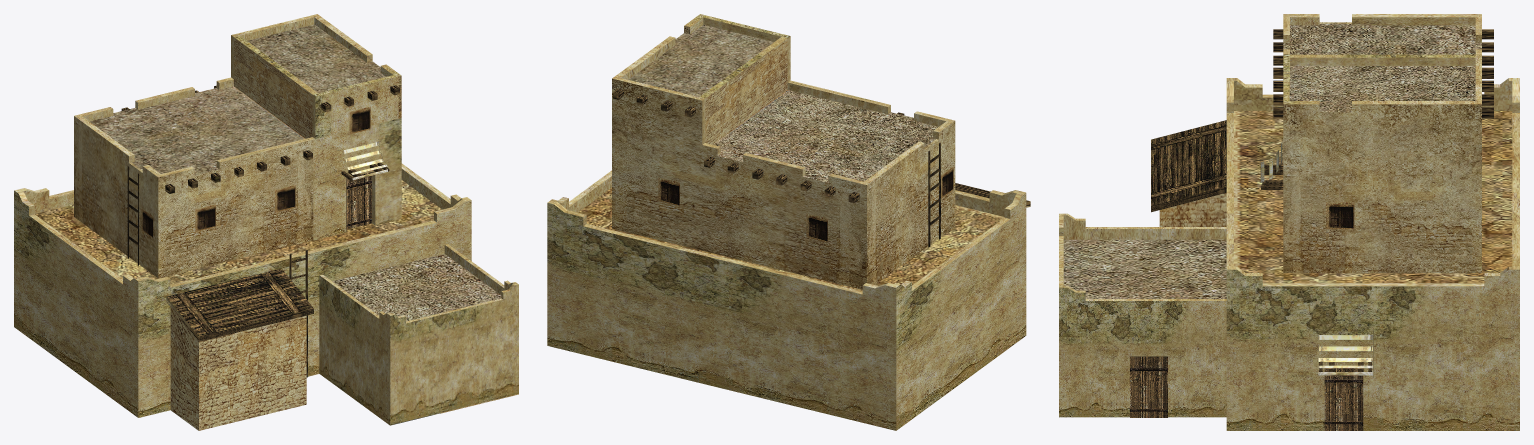
Rendered from pers_alt_build_01_big.dae.
3 renders of one model, left to right at view 1: azimuth 30°, elevation 25°; view 2: azimuth 150°, elevation 25°; view 3: azimuth 270°, elevation 25°, orthographic. The views are drawn at different scales.
Visible parts, largest first — view 1: Object07; view 2: Object07; view 3: Object07.
Part boxes in pixels (box(x1,y1,x2,y2)): Object07: box(14, 14, 518, 430); Object07: box(547, 14, 1030, 430); Object07: box(1059, 14, 1519, 430).
Bounding box in the file's own units: 24.73 × 23.83 × 17.19.
